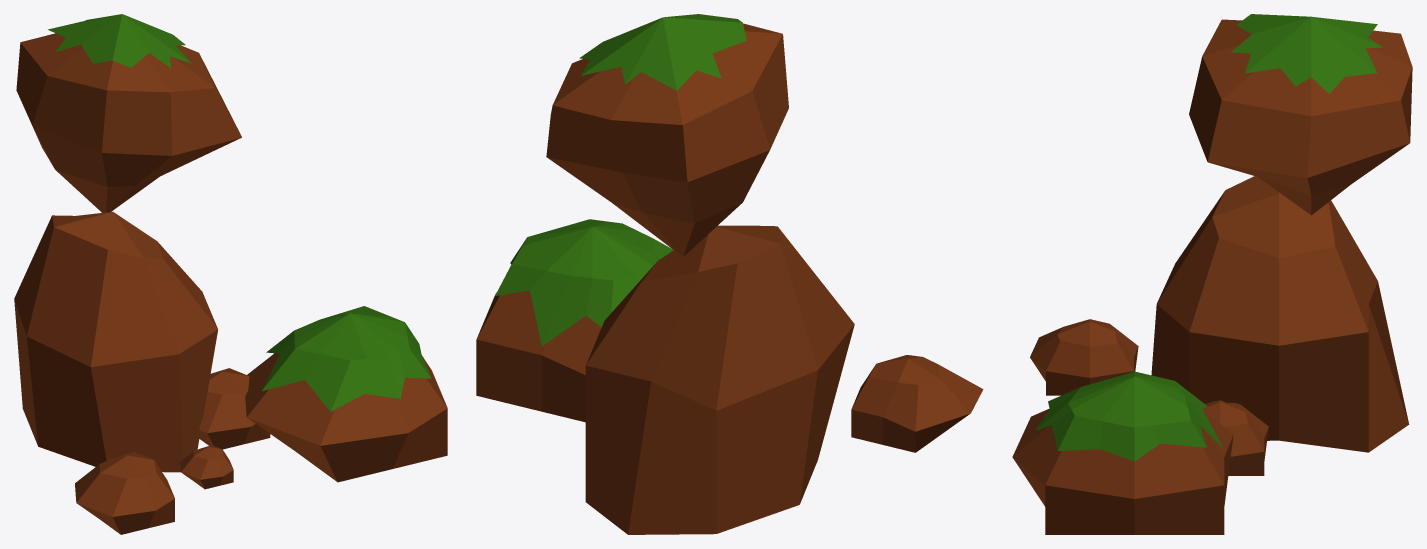
Rendered from boulder.FBX.
3 views of the same model, side by side, from view 1: azimuth 30°, elevation 25°; view 2: azimuth 150°, elevation 25°; view 3: azimuth 270°, elevation 25° (orthographic). The views are drawn at different scales.
Visible parts, largest first — view 1: boulder, boulder top (×2); view 2: boulder, boulder top (×2); view 3: boulder, boulder top (×2).
Part boxes in pixels (box(x1,y1,x2,y2)): boulder: box(14, 33, 447, 534); boulder top (×2): box(48, 14, 431, 411); boulder: box(476, 23, 983, 534); boulder top (×2): box(495, 14, 746, 346); boulder: box(1012, 19, 1412, 534); boulder top (×2): box(1034, 14, 1382, 461).
Bounding box in the file's own units: 1247 × 1253 × 1091.
